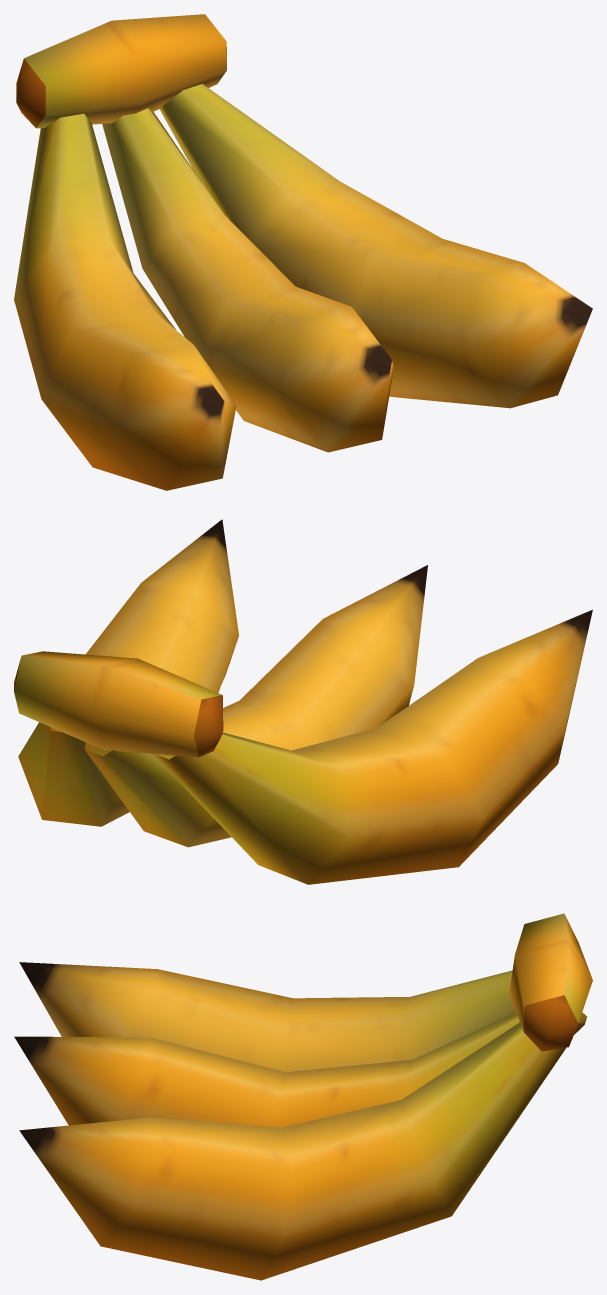
The model's file is Banana_1.fbx.
The picture shows the model from 3 angles, top to bottom: view 1: azimuth 30°, elevation 25°; view 2: azimuth 150°, elevation 25°; view 3: azimuth 270°, elevation 25°; orthographic projection. The views are drawn at different scales.
Visible parts, largest first — view 1: Banana_1; view 2: Banana_1; view 3: Banana_1.
Boxes of the visible parts, <box> form: Banana_1: <box>14,14,592,490</box>; Banana_1: <box>14,519,592,884</box>; Banana_1: <box>14,913,592,1280</box>.
Bounding box in the file's own units: 129 × 78.28 × 159.
